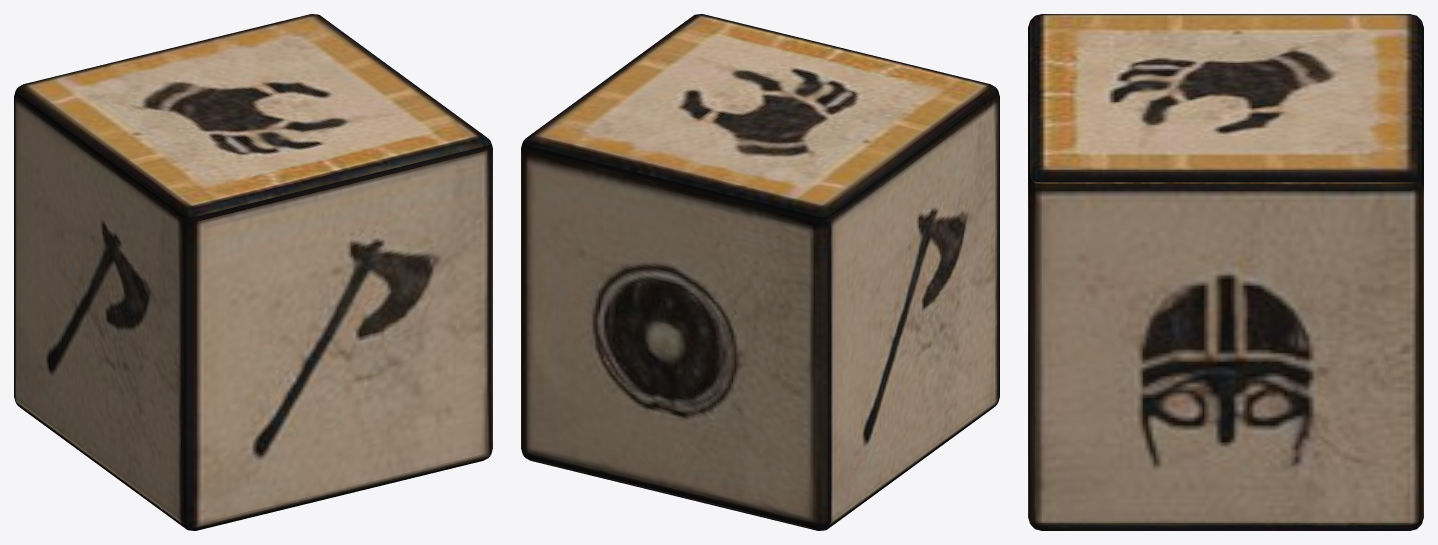
Rendered from dice1.glb.
The picture shows the model from 3 angles, left to right: view 1: azimuth 30°, elevation 25°; view 2: azimuth 150°, elevation 25°; view 3: azimuth 270°, elevation 25°; orthographic projection. The views are drawn at different scales.
Visible parts, largest first — view 1: Cube; view 2: Cube; view 3: Cube.
Part boxes in pixels (x1,y1,x2,y2): Cube: [14, 14, 492, 530]; Cube: [521, 14, 999, 530]; Cube: [1028, 14, 1423, 530].
Size of the model in its own units: 2 by 2 by 2.
Materials: 1 (1 with a texture image).
